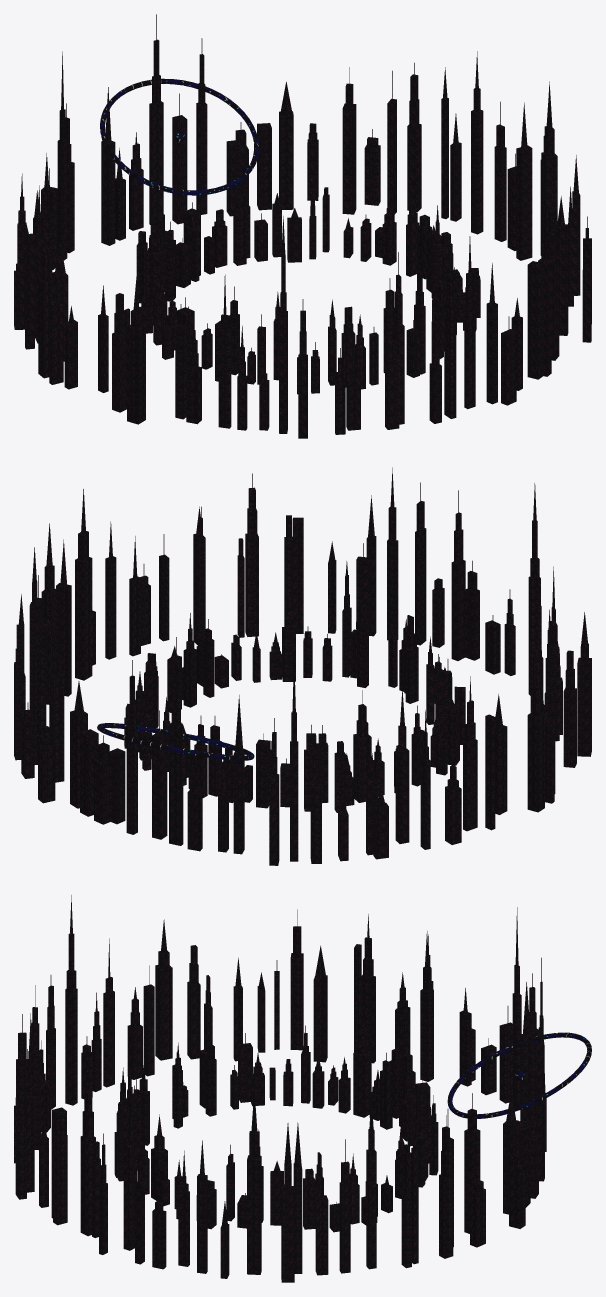
Rendered from background_mobile.glb.
3 renders of one model, top to bottom at view 1: azimuth 30°, elevation 25°; view 2: azimuth 150°, elevation 25°; view 3: azimuth 270°, elevation 25°, orthographic. The views are drawn at different scales.
Parts seen in each view (by area): view 1: BG_Neon_Skyline_Far, BG_Neon_Skyline_Near, BG_Halo_Ring; view 2: BG_Neon_Skyline_Far, BG_Neon_Skyline_Near, BG_Halo_Ring; view 3: BG_Neon_Skyline_Far, BG_Neon_Skyline_Near, BG_Halo_Ring.
Part boxes in pixels (x1=…): BG_Neon_Skyline_Far: x1=14, y1=14, x2=591, y2=438; BG_Neon_Skyline_Near: x1=136, y1=176, x2=480, y2=394; BG_Halo_Ring: x1=100, y1=78, x2=259, y2=195; BG_Neon_Skyline_Far: x1=14, y1=467, x2=591, y2=865; BG_Neon_Skyline_Near: x1=124, y1=561, x2=465, y2=812; BG_Halo_Ring: x1=97, y1=723, x2=254, y2=760; BG_Neon_Skyline_Far: x1=14, y1=895, x2=546, y2=1282; BG_Neon_Skyline_Near: x1=114, y1=1008, x2=438, y2=1232; BG_Halo_Ring: x1=447, y1=1032, x2=591, y2=1118.
Bounding box in the file's own units: 898 × 367 × 921.
Materials: 3 (3 with a texture image).
